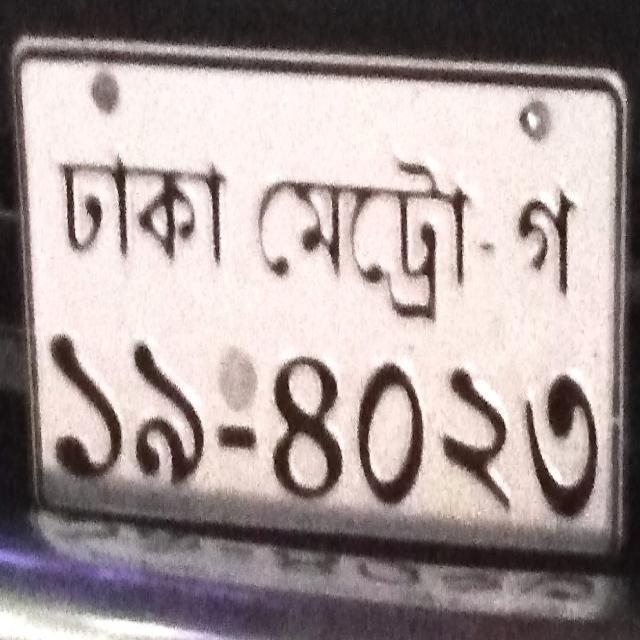numberplate: (2, 11, 636, 634)
